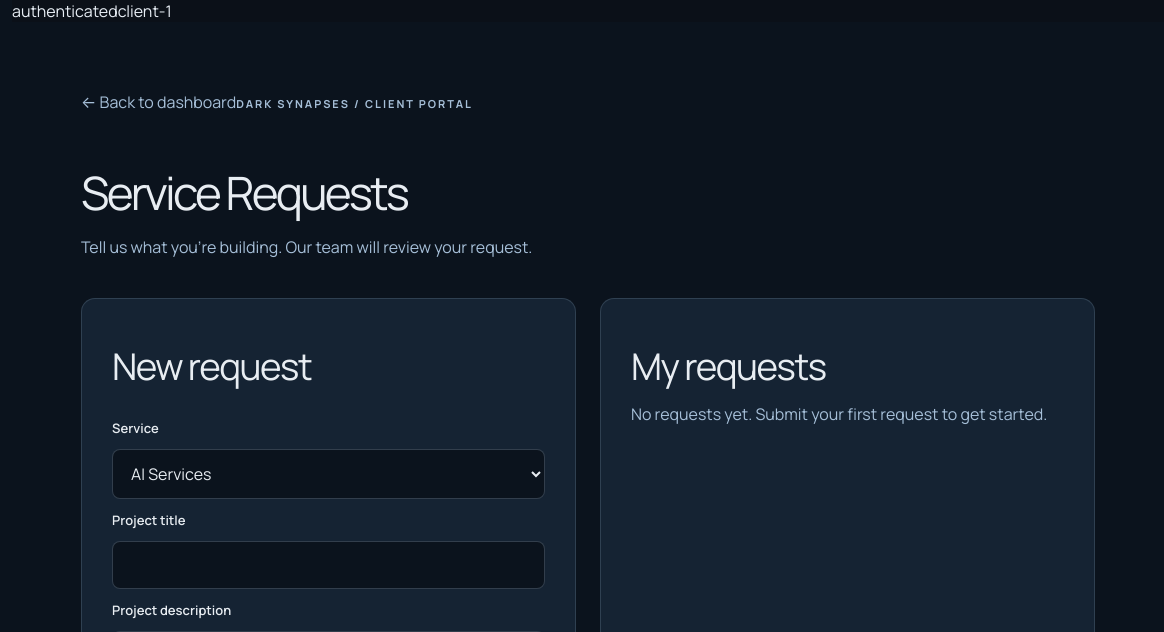
Test: ServiceRequestsPage POST authorization › handles POST HTTP 401
The image size is (1164, 632).
Expected: the text "No requests yet. Submit your first request to get started." is shown, [631,403,1064,425]
Type "AI Automation Project" into the field labelled "Project title" at (329, 565), box [112,541,545,589]
(page scrolled)
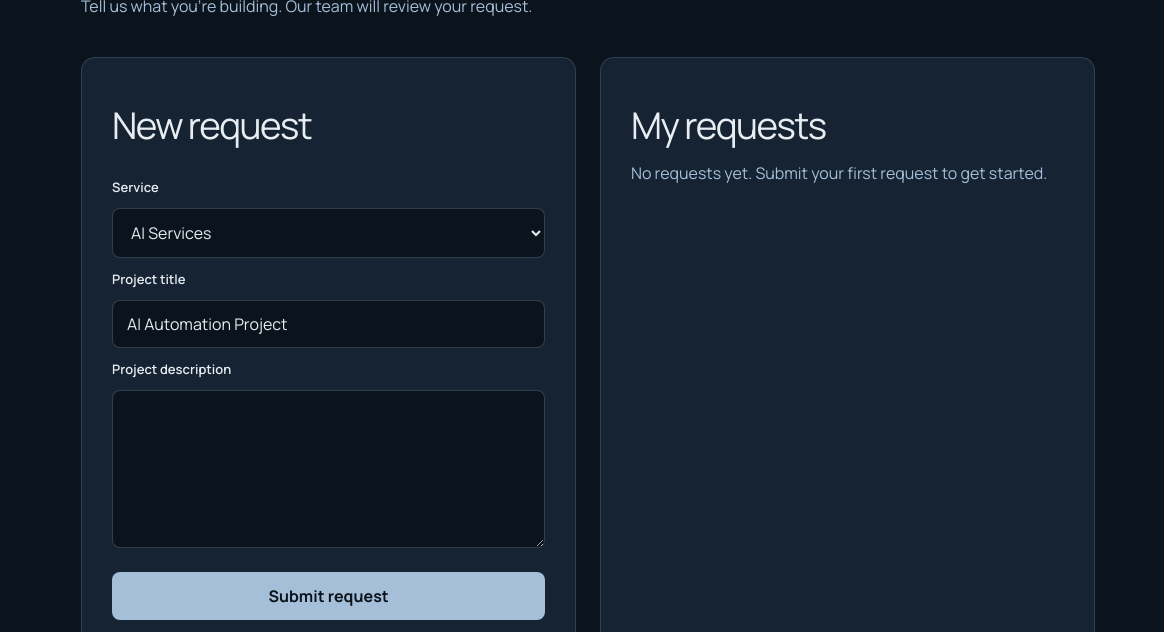
Type "Build an AI automation workflow." into the text box labelled "Project description" at (329, 469), box [112,390,545,548]
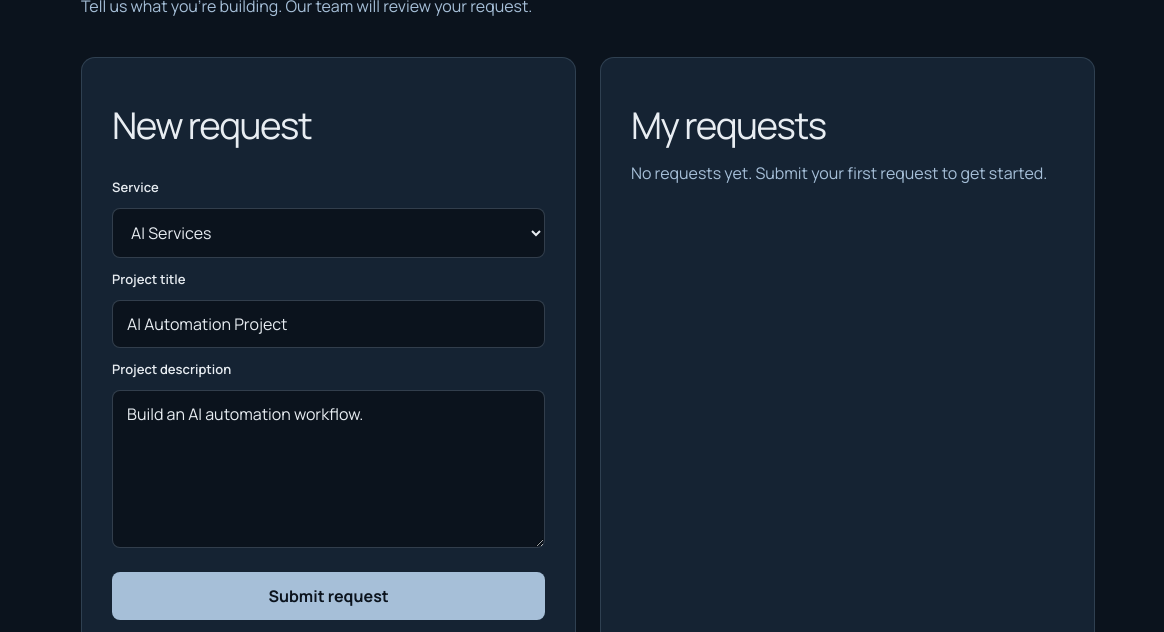
Click the button "Submit request" at (329, 596), box [112,572,545,620]
(page scrolled)
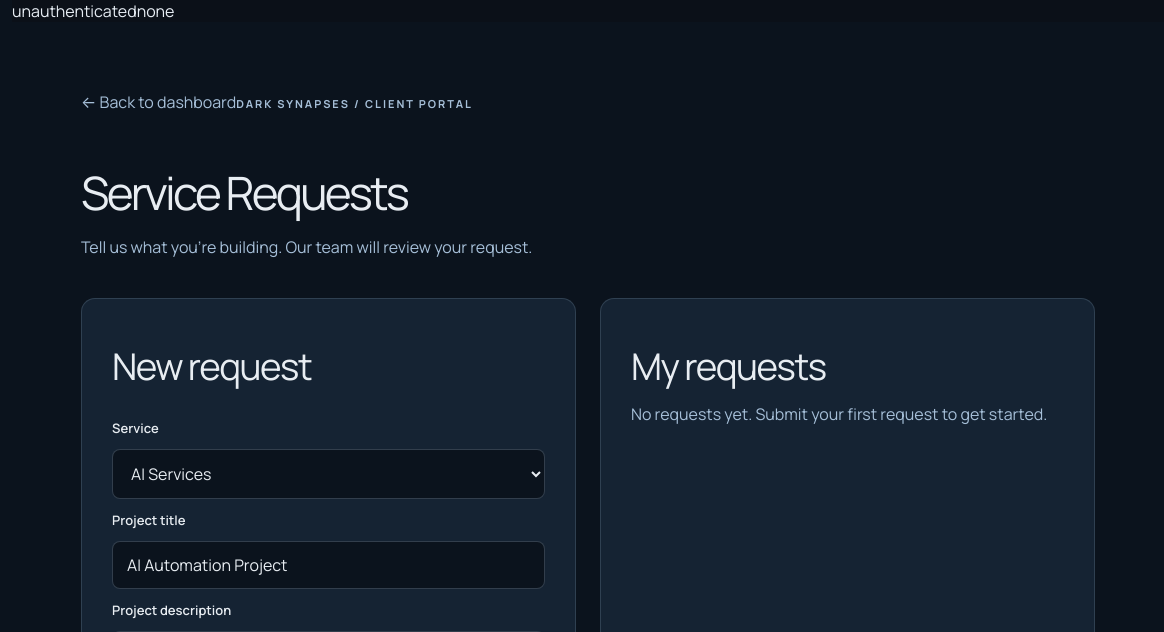
Now the text with test id "auth-status" reads "unauthenticated", box [12,0,137,22]
Now the text with test id "auth-user" reads "none", box [137,0,174,22]
